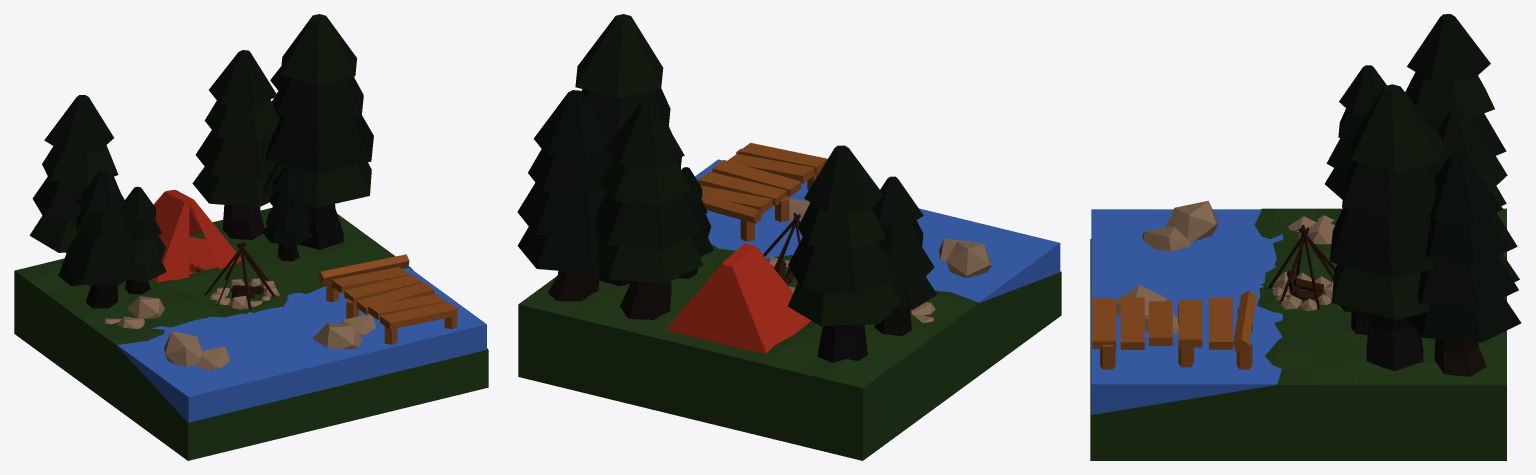
The model's file is Summer.fbx.
3 renders of one model, left to right at view 1: azimuth 30°, elevation 25°; view 2: azimuth 150°, elevation 25°; view 3: azimuth 270°, elevation 25°, orthographic. The views are drawn at different scales.
Visible parts, largest first — view 1: summer=base=, Tree01, Tree00, Bridge, Tent, Bonfire, Rock_water00, Rock_water01, Rock_ground; view 2: summer=base=, Tree01, Tree00, Tent, Bridge, Rock_water00, Bonfire; view 3: summer=base=, Tree01, Tree00, Bridge, Bonfire, Rock_water00, Rock_ground, Rock_water01.
Part boxes in pixels (bbox=[...]): summer=base=: bbox=[14, 208, 488, 460]; Tree01: bbox=[192, 14, 373, 261]; Tree00: bbox=[29, 95, 166, 308]; Bridge: bbox=[318, 254, 457, 344]; Tent: bbox=[152, 189, 241, 282]; Bonfire: bbox=[204, 242, 279, 309]; Rock_water00: bbox=[164, 331, 230, 370]; Rock_water01: bbox=[313, 314, 376, 349]; Rock_ground: bbox=[104, 296, 164, 328]; summer=base=: bbox=[518, 159, 1061, 460]; Tree01: bbox=[517, 14, 713, 319]; Tree00: bbox=[787, 145, 937, 362]; Tent: bbox=[666, 243, 810, 353]; Bridge: bbox=[698, 143, 827, 241]; Rock_water00: bbox=[939, 238, 991, 277]; Bonfire: bbox=[763, 213, 803, 292]; summer=base=: bbox=[1090, 208, 1506, 460]; Tree01: bbox=[1329, 84, 1521, 376]; Tree00: bbox=[1325, 14, 1507, 199]; Bridge: bbox=[1092, 290, 1256, 369]; Bonfire: bbox=[1267, 224, 1335, 310]; Rock_water00: bbox=[1142, 200, 1218, 251]; Rock_ground: bbox=[1288, 215, 1334, 244]; Rock_water01: bbox=[1116, 285, 1178, 333].
Size of the model in its own units: 104 by 91.91 by 103.
